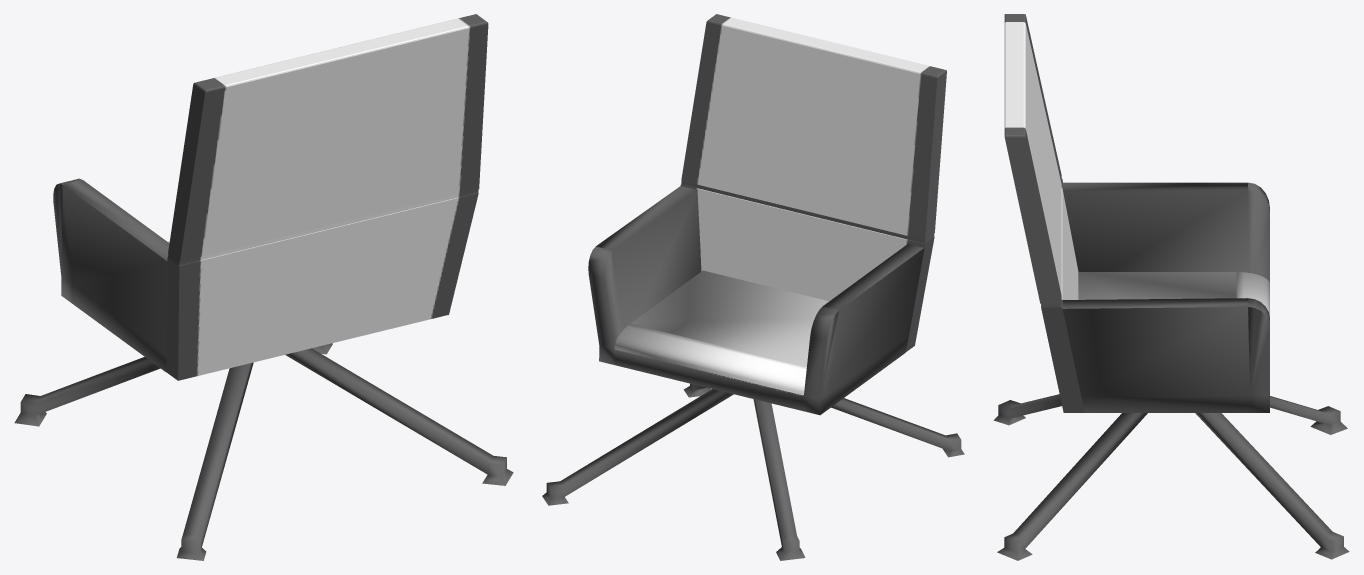
Rendered from Chair.fbx.
The picture shows the model from 3 angles, left to right: view 1: azimuth 30°, elevation 25°; view 2: azimuth 150°, elevation 25°; view 3: azimuth 270°, elevation 25°; orthographic projection. The views are drawn at different scales.
Parts seen in each view (by area): view 1: Chair; view 2: Chair; view 3: Chair.
Part boxes in pixels (<box>): Chair: <box>14,14,513,560</box>; Chair: <box>542,14,964,560</box>; Chair: <box>993,14,1349,560</box>.
Size of the model in its own units: 1.31 by 1.71 by 1.34.
